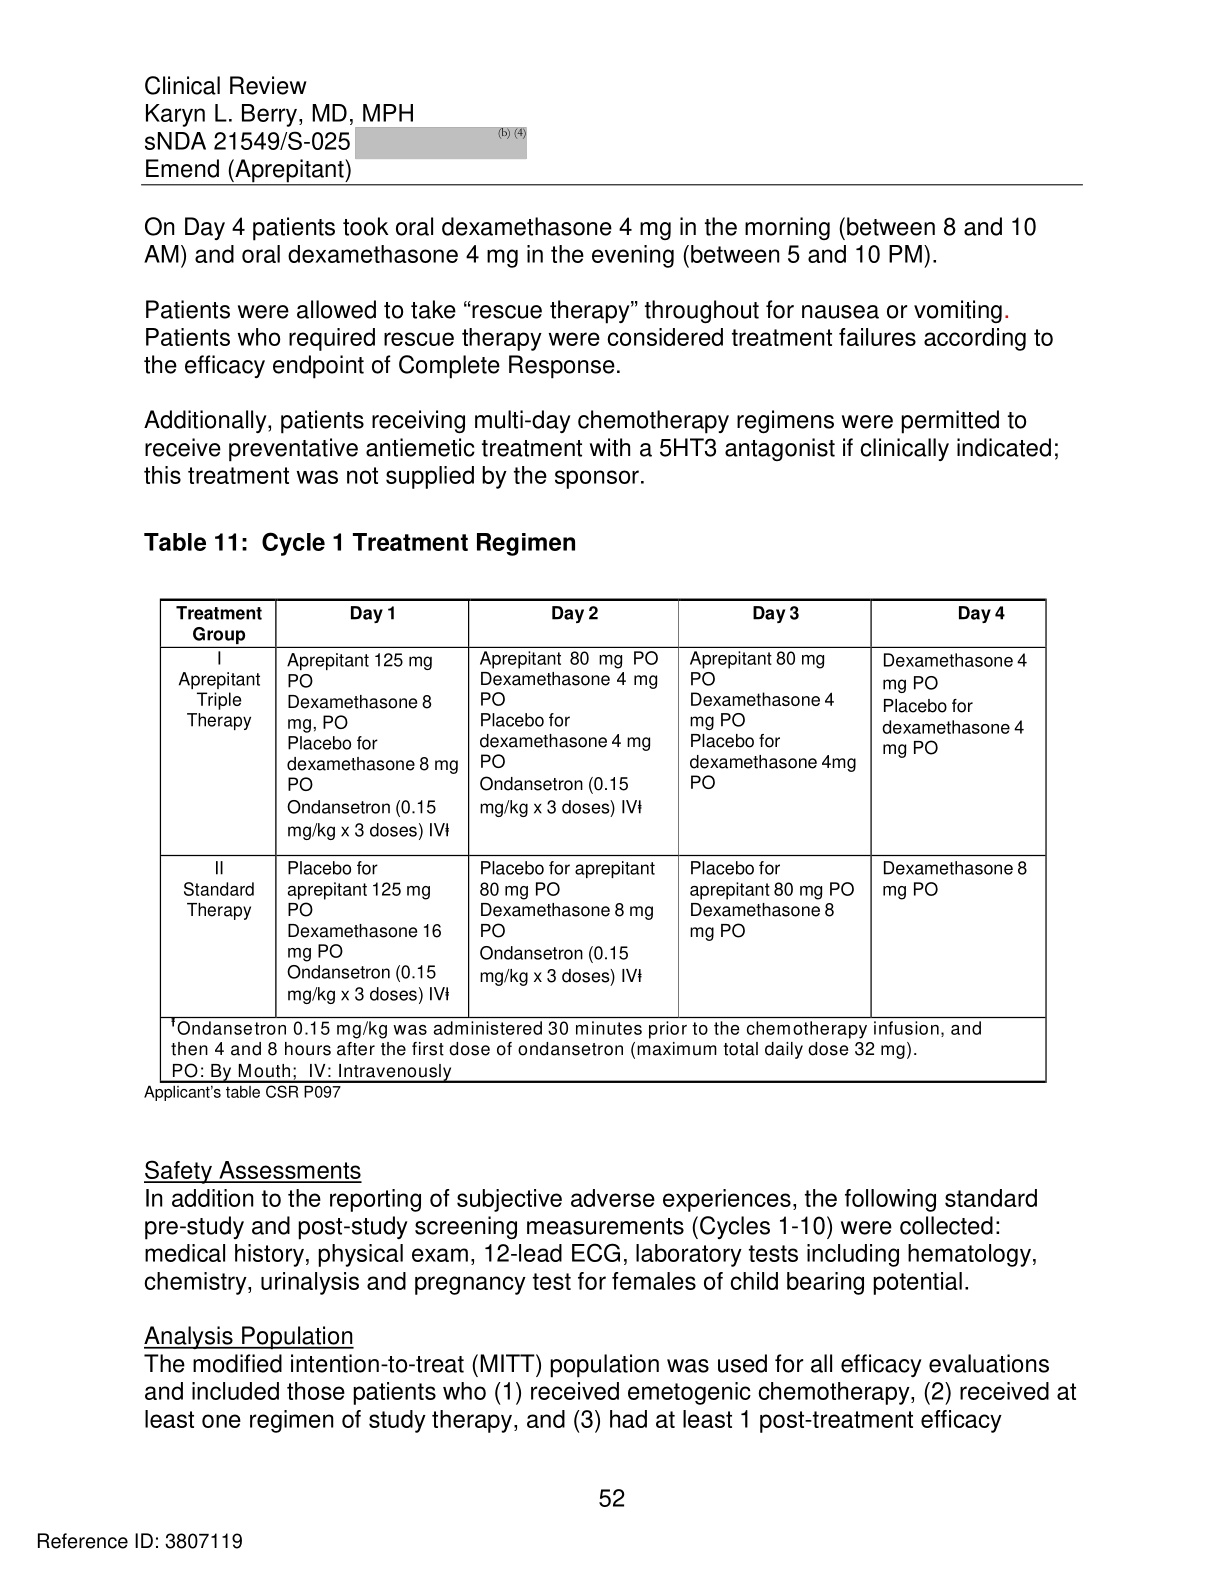merged_cells: (158, 597, 1047, 1083)
